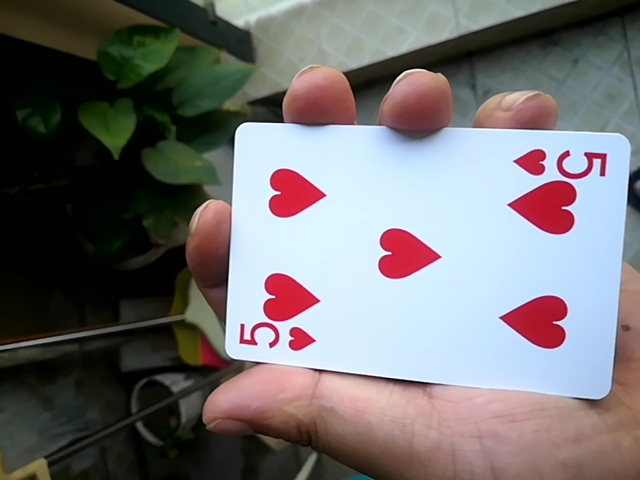hx 5: (227, 113, 631, 392)
